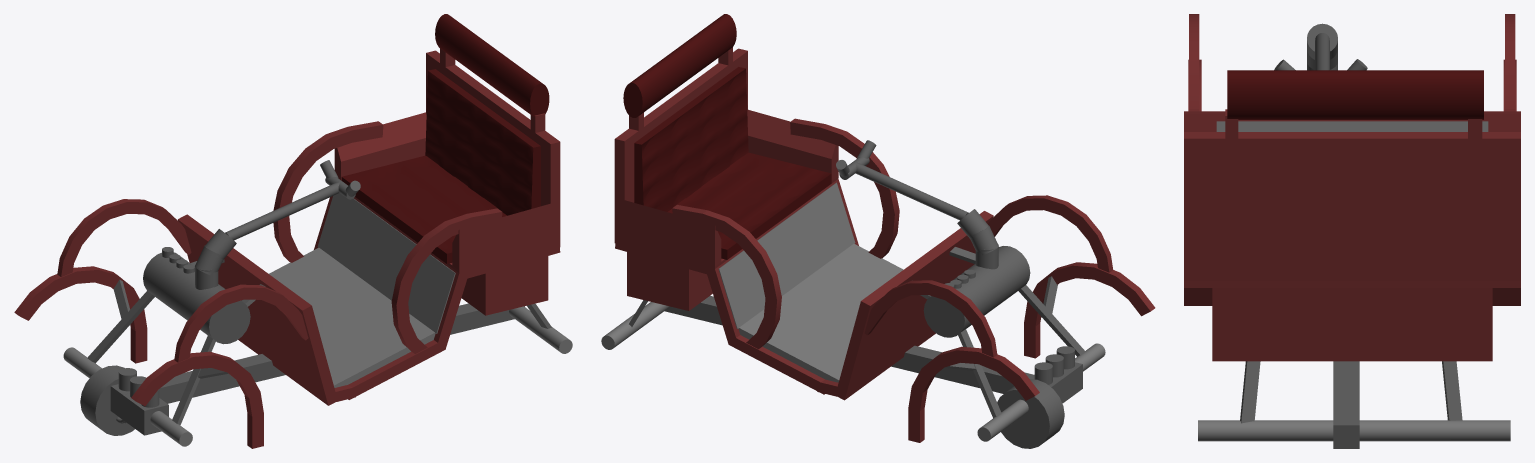
Rendered from Car body.fbx.
3 renders of one model, left to right at view 1: azimuth 30°, elevation 25°; view 2: azimuth 150°, elevation 25°; view 3: azimuth 270°, elevation 25°, orthographic. The views are drawn at different scales.
Visible parts, largest first — view 1: pCube22, pCube24, pCube19, pCube23, pCube15, pCube21, pCylinder28, pCylinder20, pCylinder21, pCube20, pCube28, pCylinder30 (+13 smaller); view 2: pCube22, pCube24, pCube19, pCube23, pCube15, pCube21, pCylinder20, pCylinder28, pCube20, pCylinder21, pCube28, pCylinder29 (+13 smaller); view 3: pCube20, pCube28, pCylinder28, pCylinder27, pCube25, pCube33, pCube19, pCube15, pCylinder33, pCylinder34, pCube18, pCube31 (+3 smaller).
Part boxes in pixels (x1,y1,x2,y2): pCube22: (425, 69, 540, 215); pCube24: (269, 247, 435, 387); pCube19: (334, 112, 560, 280); pCube23: (317, 193, 455, 333); pCube15: (178, 214, 337, 405); pCube21: (341, 155, 506, 263); pCylinder28: (435, 14, 549, 117); pCylinder20: (80, 365, 168, 435); pCylinder21: (143, 252, 250, 344); pCube20: (426, 48, 560, 246); pCube28: (461, 256, 548, 315); pCylinder30: (131, 351, 263, 448); pCube22: (634, 67, 748, 211); pCube24: (738, 243, 903, 382); pCube19: (615, 109, 838, 274); pCube23: (718, 182, 855, 328); pCube15: (837, 211, 993, 400); pCube21: (667, 152, 831, 259); pCylinder20: (997, 346, 1082, 448); pCylinder28: (623, 14, 736, 117); pCube20: (614, 47, 747, 245); pCylinder21: (923, 246, 1030, 337); pCube28: (627, 252, 712, 310); pCylinder29: (908, 346, 1039, 442); pCube20: (1184, 109, 1520, 280); pCube28: (1212, 288, 1492, 361); pCylinder28: (1227, 70, 1483, 119); pCylinder27: (1198, 420, 1510, 441); pCube25: (1216, 121, 1488, 131); pCube33: (1333, 361, 1359, 448); pCube19: (1184, 281, 1520, 287); pCube15: (1184, 111, 1520, 131); pCylinder33: (1505, 14, 1515, 111); pCylinder34: (1189, 14, 1199, 111); pCube18: (1184, 288, 1520, 305); pCube31: (1240, 361, 1260, 423).
Bounding box in the file's own units: 7.06 × 4.58 × 3.45.
